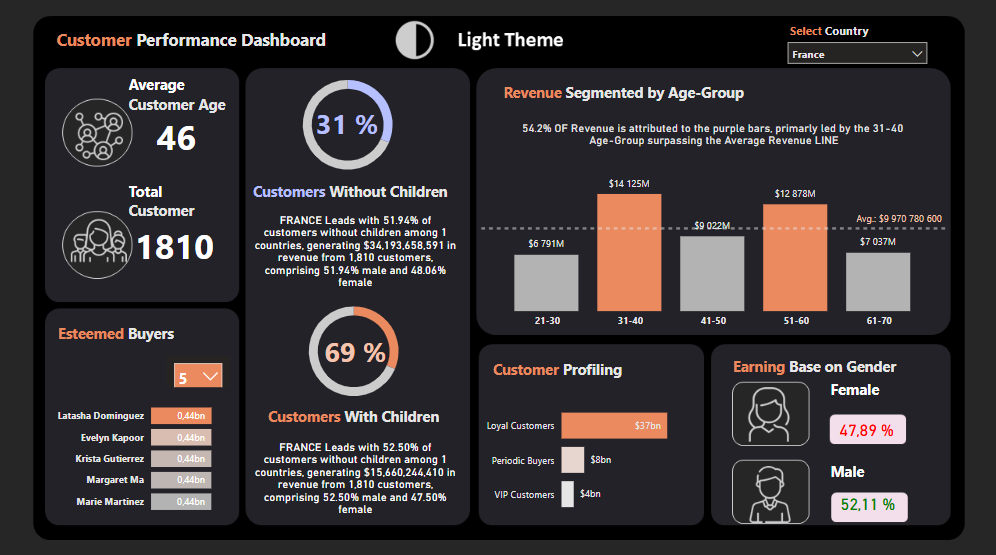

This screenshot's page, from the dashboard's own definition file:
{"tool":"powerbi","page":{"name":"Dark theme","canvas":[1280,720],"ordinal":1},"visuals":[{"type":"clusteredColumnChart","fields":{"Category":["DimCustomer.Age Category"],"Y":["All Measures.Total Revenue"]},"box":[611.6,206.6,605.6,222.8],"z":0},{"type":"card","fields":{"Values":["Customer Measures.Avg Caption"]},"box":[619.7,143.8,591.4,56.7],"z":1000},{"type":"textbox","box":[640,99.2,467.8,38.5],"z":2000},{"type":"card","fields":{"Values":["Customer Measures.% c without children"]},"box":[398.3,121.6,93.2,72.9],"z":3000},{"type":"donutChart","fields":{"Y":["Customer Measures.% c without children","Customer Measures.% CWC"]},"box":[334.9,373.4,237,153.9],"z":4000},{"type":"card","fields":{"Values":["Customer Measures.% CWC"]},"box":[409.8,413.9,91.1,72.9],"z":5000},{"type":"textbox","box":[320,226.9,273.4,38.5],"z":6000},{"type":"textbox","box":[338.2,514.5,247.1,38.5],"z":7000},{"type":"card","fields":{"Values":["Customer Measures.Caption Customers without children"]},"box":[315.9,255.2,283.5,133.7],"z":8000},{"type":"card","fields":{"Values":["Customer Measures.Caption Customers with children"]},"box":[315.9,555,283.5,115.4],"z":9000},{"type":"clusteredBarChart","fields":{"Category":["DimCustomer.Customer Type"],"Y":["All Measures.Total Revenue"]},"box":[611.6,498.2,283.5,176.2],"z":10000},{"type":"textbox","box":[627.8,455.7,220.8,40.5],"z":11000},{"type":"clusteredBarChart","fields":{"Category":["DimCustomer.Full Name"],"Y":["Customer Measures.Dynamic customers"]},"box":[66.8,498.2,237,172.2],"z":12000},{"type":"slicer","fields":{"Values":["Dynamic customers.Dynamic customers"]},"box":[212.7,455.7,81,40.5],"z":13000},{"type":"textbox","box":[68.9,409.1,182.3,42.5],"z":14000},{"type":"card","fields":{"Values":["Customer Measures.% Male"]},"box":[1053.2,627.8,115.4,38.5],"z":15000},{"type":"card","fields":{"Values":["Customer Measures.% Female"]},"box":[1037,520.5,147.8,60.8],"z":16000},{"type":"card","fields":{"Values":["Customer Measures.Average Customer Age"]},"box":[174.2,143.8,101.3,60.8],"z":17000},{"type":"card","fields":{"Values":["Customer Measures.#Customers"]},"box":[158,281.5,131.6,64.8],"z":18000},{"type":"textbox","box":[160,91.1,155.9,68.9],"z":19000},{"type":"textbox","box":[160,226.8,129.6,66.8],"z":20000},{"type":"textbox","box":[1059.2,480,133.7,44.6],"z":21000},{"type":"textbox","box":[1059.2,587.3,105.3,44.6],"z":22000},{"type":"donutChart","fields":{"Y":["Customer Measures.% c without children","Customer Measures.% CWC"]},"box":[327.4,83.1,237,153.9],"z":23000},{"type":"textbox","box":[933.7,451.6,249.1,42.5],"z":24000},{"type":"textbox","box":[66.8,30.4,368.6,38.5],"z":25000},{"type":"slicer","fields":{"Values":["DimGeography.Country"]},"box":[999.8,44.6,198.5,42.5],"z":26000},{"type":"textbox","box":[1007.9,22.3,220.8,40.5],"z":27000}]}

Visuals, with their boxes in screenshot pixels (x1, y1, x2, y2), scaled from the page's 1280x720 canvas onto the 996x555 screenshot:
clusteredColumnChart - DimCustomer.Age Category x All Measures.Total Revenue: [left=476, top=159, right=947, bottom=331]
card - Customer Measures.Avg Caption: [left=482, top=111, right=942, bottom=155]
textbox: [left=498, top=76, right=862, bottom=106]
card - Customer Measures.% c without children: [left=310, top=94, right=382, bottom=150]
donutChart - Customer Measures.% c without children x Customer Measures.% CWC: [left=261, top=288, right=445, bottom=406]
card - Customer Measures.% CWC: [left=319, top=319, right=390, bottom=375]
textbox: [left=249, top=175, right=462, bottom=205]
textbox: [left=263, top=397, right=455, bottom=426]
card - Customer Measures.Caption Customers without children: [left=246, top=197, right=466, bottom=300]
card - Customer Measures.Caption Customers with children: [left=246, top=428, right=466, bottom=517]
clusteredBarChart - DimCustomer.Customer Type x All Measures.Total Revenue: [left=476, top=384, right=696, bottom=520]
textbox: [left=489, top=351, right=660, bottom=382]
clusteredBarChart - DimCustomer.Full Name x Customer Measures.Dynamic customers: [left=52, top=384, right=236, bottom=517]
slicer - Dynamic customers.Dynamic customers: [left=166, top=351, right=229, bottom=382]
textbox: [left=54, top=315, right=195, bottom=348]
card - Customer Measures.% Male: [left=820, top=484, right=909, bottom=514]
card - Customer Measures.% Female: [left=807, top=401, right=922, bottom=448]
card - Customer Measures.Average Customer Age: [left=136, top=111, right=214, bottom=158]
card - Customer Measures.#Customers: [left=123, top=217, right=225, bottom=267]
textbox: [left=124, top=70, right=246, bottom=123]
textbox: [left=124, top=175, right=225, bottom=226]
textbox: [left=824, top=370, right=928, bottom=404]
textbox: [left=824, top=453, right=906, bottom=487]
donutChart - Customer Measures.% c without children x Customer Measures.% CWC: [left=255, top=64, right=439, bottom=183]
textbox: [left=727, top=348, right=920, bottom=381]
textbox: [left=52, top=23, right=339, bottom=53]
slicer - DimGeography.Country: [left=778, top=34, right=932, bottom=67]
textbox: [left=784, top=17, right=956, bottom=48]
